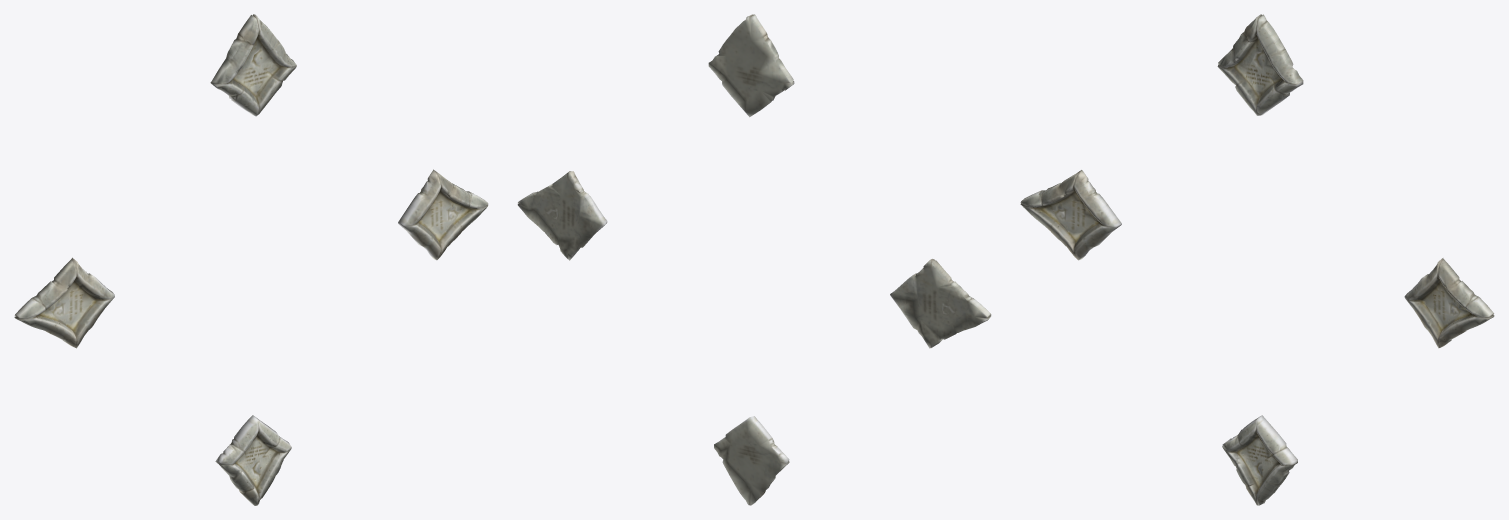
Rendered from Vd_Vulgrim_Platform_Insets.fbx.
3 renders of one model, left to right at view 1: azimuth 30°, elevation 25°; view 2: azimuth 150°, elevation 25°; view 3: azimuth 330°, elevation 25°, orthographic.
Visible parts, largest first — view 1: Vd_Vulgrim_Platform_Insets; view 2: Vd_Vulgrim_Platform_Insets; view 3: Vd_Vulgrim_Platform_Insets.
Part boxes in pixels (x1,y1,x2,y2): Vd_Vulgrim_Platform_Insets: (14,14,488,505); Vd_Vulgrim_Platform_Insets: (517,14,991,505); Vd_Vulgrim_Platform_Insets: (1020,14,1494,505).
Bounding box in the file's own units: 2086 × 2073 × 59.5.
